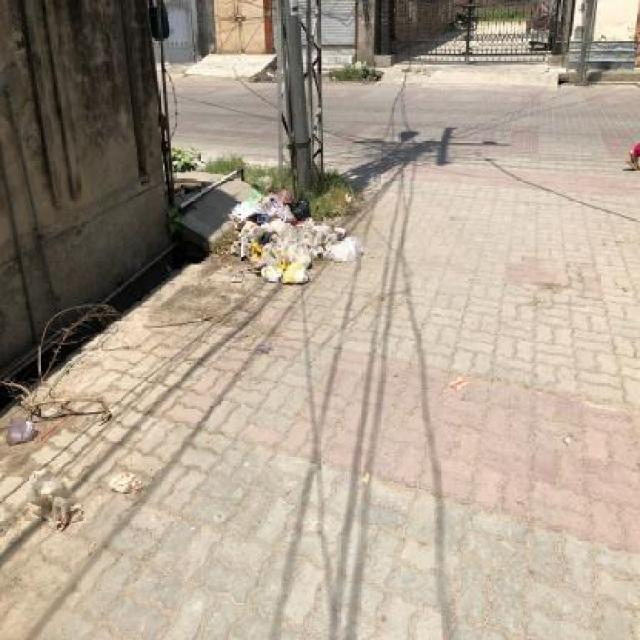garbage: (5, 288, 182, 515), (214, 175, 382, 360)
